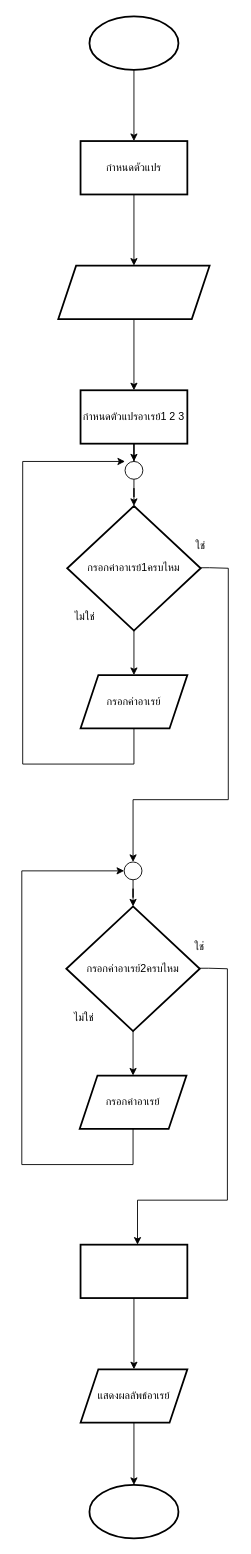
The diagram is 251 pixels wide and 1554 high, and some of its shapes have lost their labels. The shapes that lost their labels are listed below. From the top down, each one's centre as x and y in pixels, then its label:
the point at 133,42: เริ่ม
the point at 133,292: รับจำนวนแถวและคอลัม
the point at 133,1271: คำนวนผลรวมอาเรย์เอาอาเรย์1 2 มารวมกัน
the point at 133,1511: จบ
